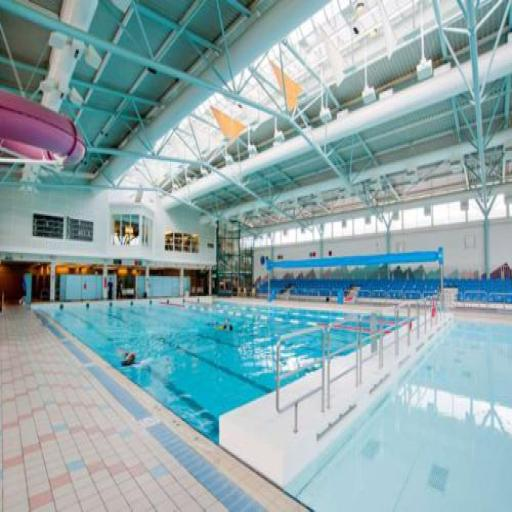swimming: (116, 346, 147, 374), (208, 314, 235, 338)
